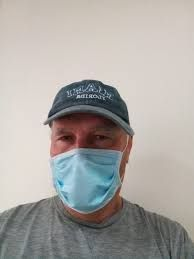with-mask: (47, 84, 136, 213)
